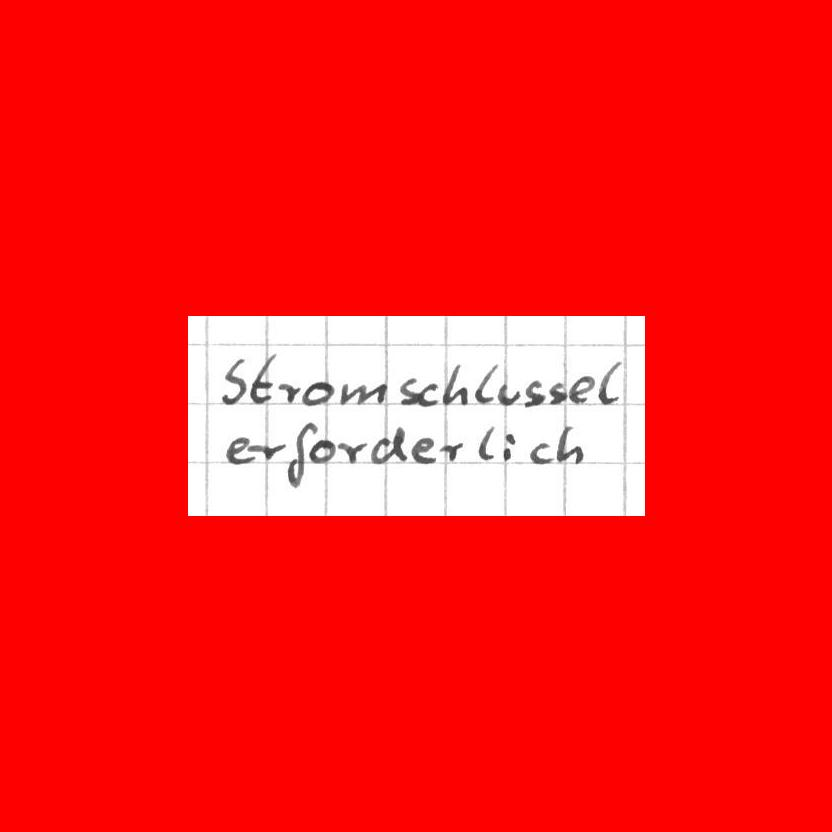Char: (284, 421, 315, 489), (368, 424, 407, 465), (219, 354, 247, 407), (249, 352, 276, 406), (596, 357, 623, 407), (339, 378, 385, 407), (441, 361, 468, 408), (400, 375, 438, 408), (556, 424, 584, 466), (472, 361, 499, 404), (223, 434, 252, 466), (302, 379, 332, 407), (307, 437, 336, 464), (476, 425, 497, 462), (570, 374, 594, 405), (411, 435, 435, 466), (339, 439, 367, 464), (254, 441, 283, 463), (276, 379, 300, 405), (524, 378, 545, 407), (496, 381, 520, 406), (529, 440, 553, 463), (438, 440, 464, 461), (547, 378, 566, 405), (501, 429, 516, 462)
